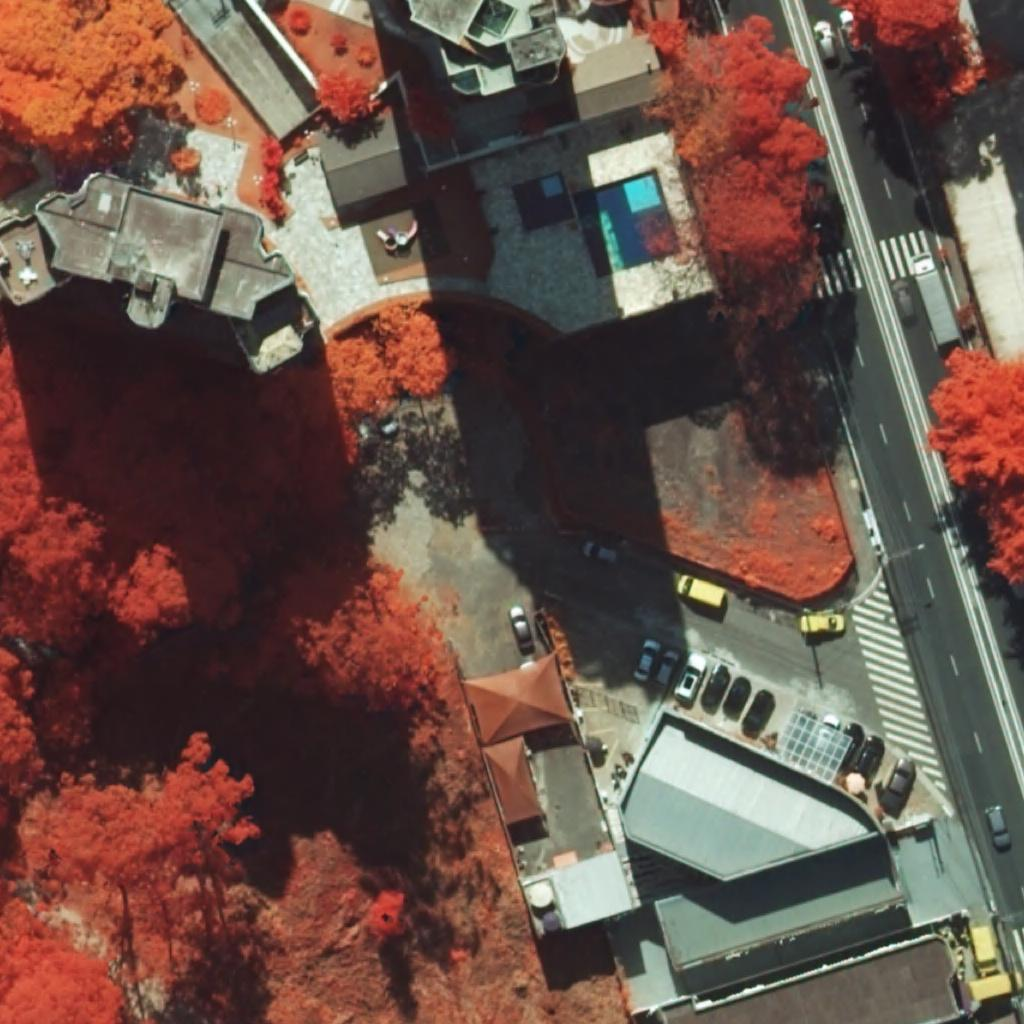pool: (572, 169, 681, 279)
